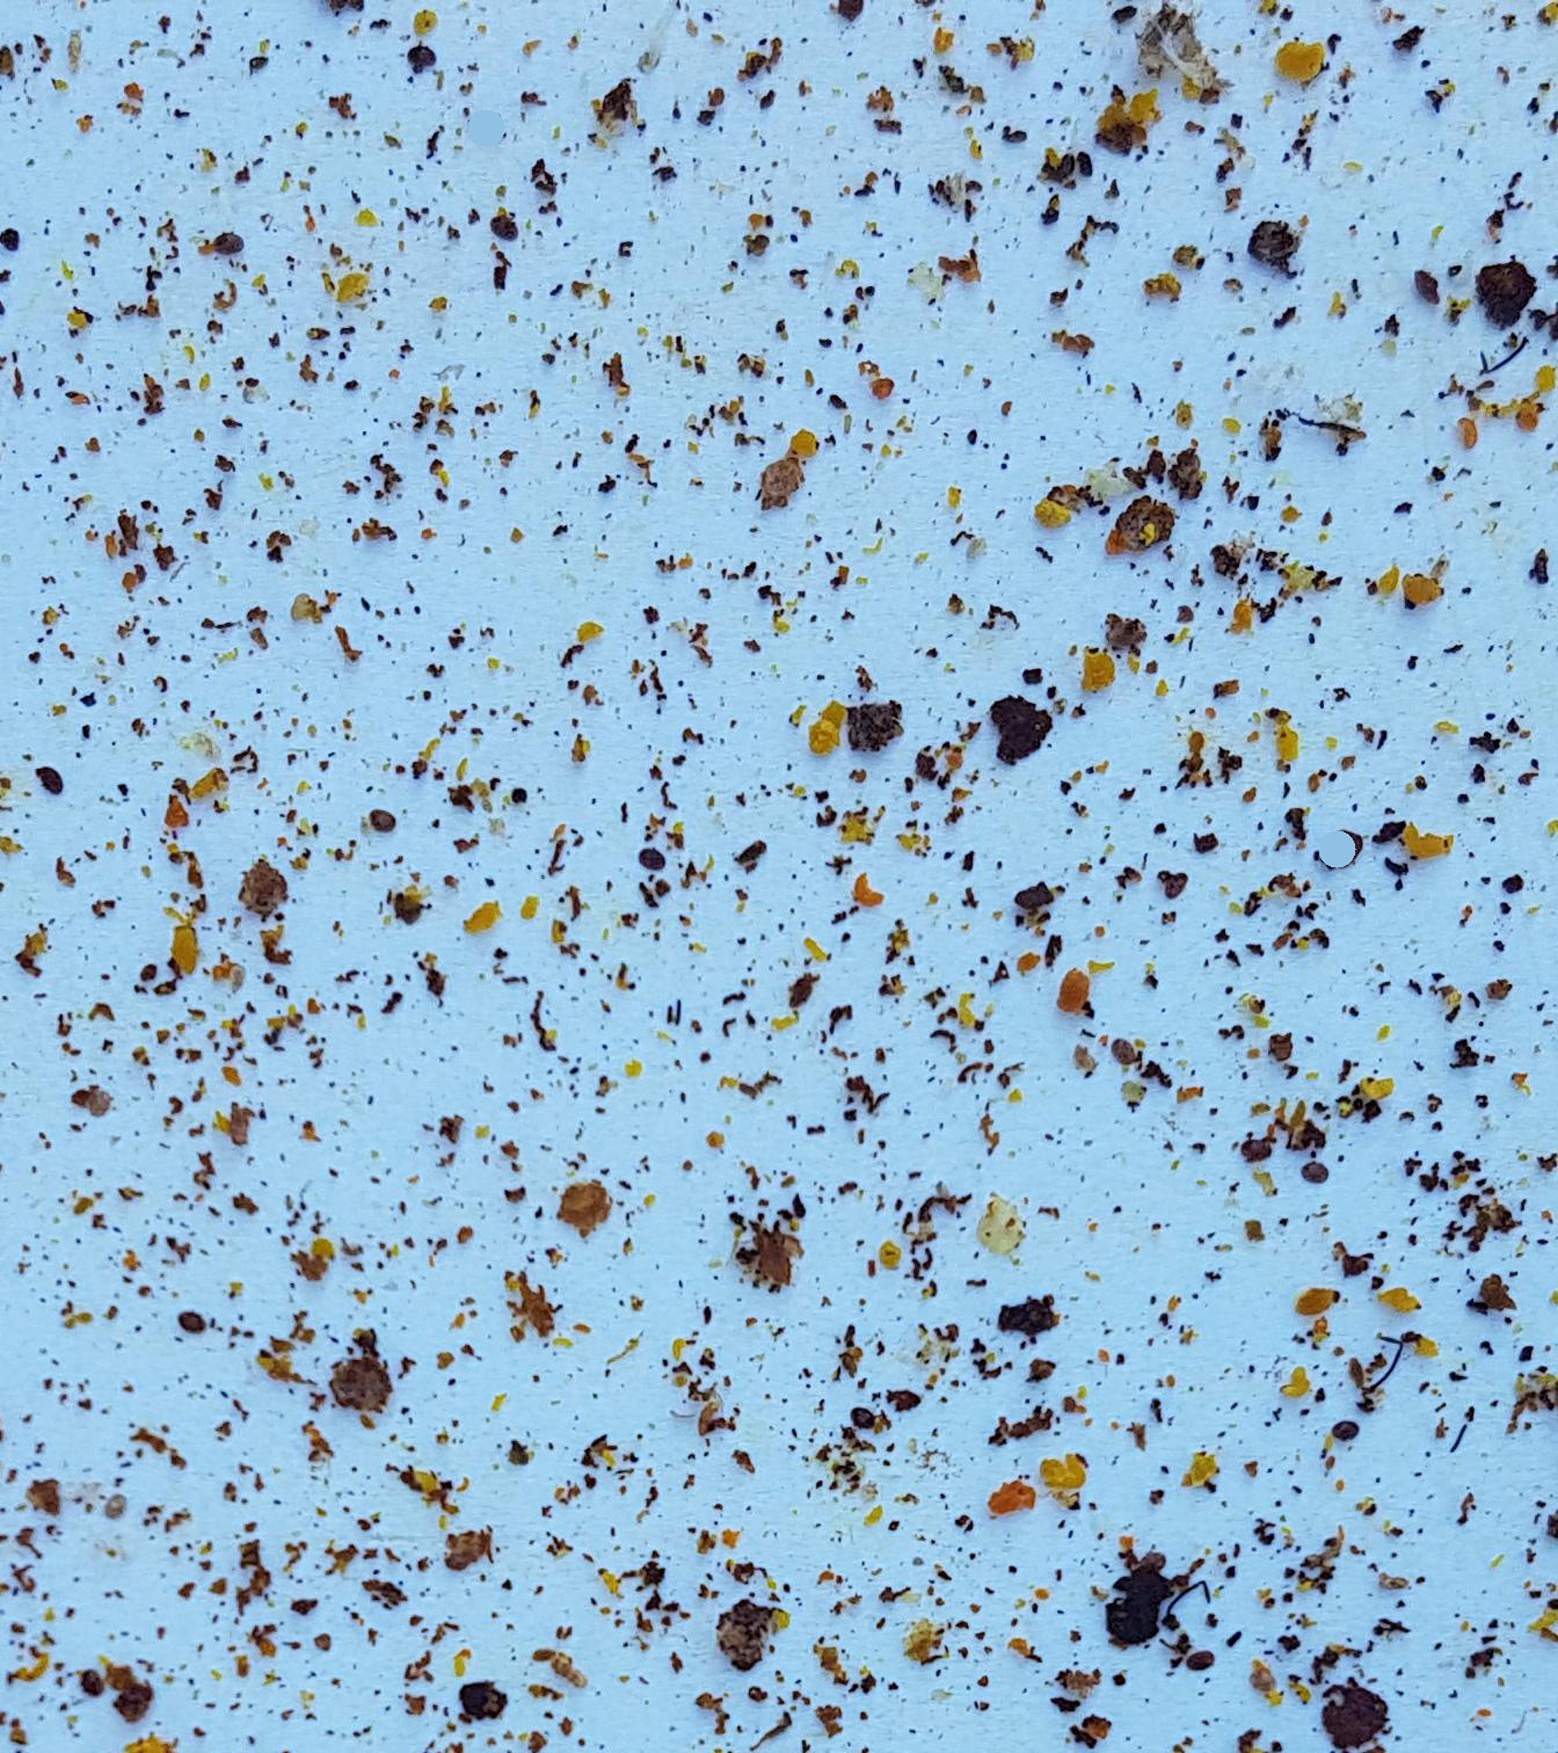Varroa: (358, 798, 405, 837), (72, 1655, 111, 1699), (1236, 1132, 1275, 1171), (1178, 1639, 1214, 1675), (402, 39, 438, 75), (844, 1395, 878, 1433), (174, 1305, 209, 1341), (1105, 1036, 1141, 1070), (638, 840, 674, 873), (38, 762, 71, 797), (211, 229, 244, 263), (487, 212, 520, 247), (1325, 1412, 1359, 1442), (1159, 870, 1193, 901), (1302, 1162, 1332, 1194)
